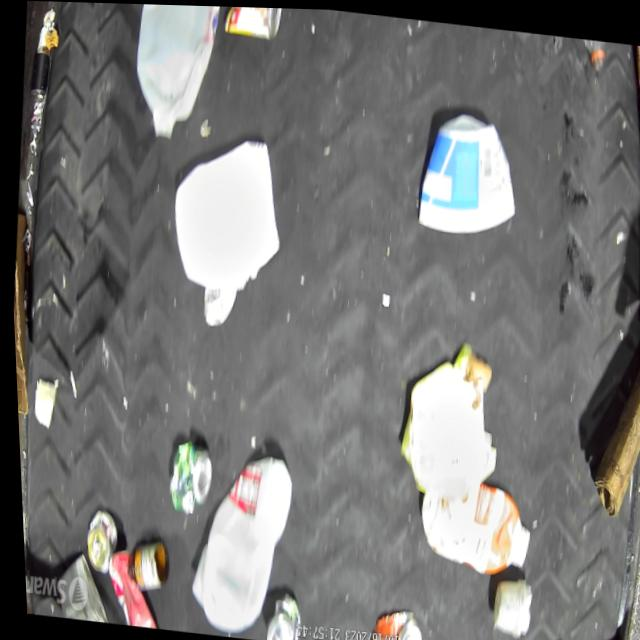can: (158, 433, 212, 519), (75, 506, 116, 575), (360, 601, 420, 640), (222, 5, 284, 41), (257, 590, 298, 640)
milk_jug: (175, 445, 296, 639), (125, 3, 228, 145)
